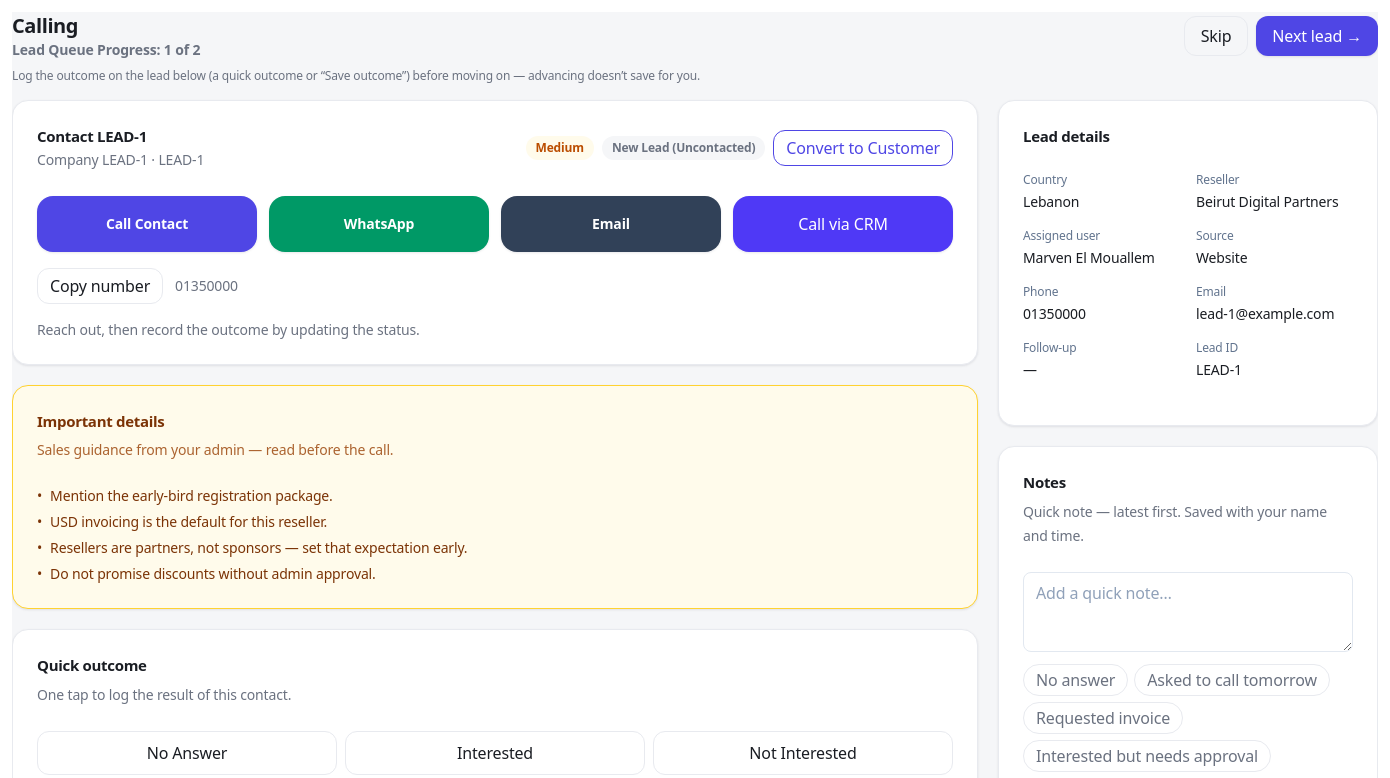
SalesCallingQueue — progress + navigation › the last lead's action button reads 'Finish' instead of 'Next lead →'
What coordinates should you click on to do the following:
click the button "Skip"
I would click on:
 (1216, 36)
Its box is [1184,16,1248,56].
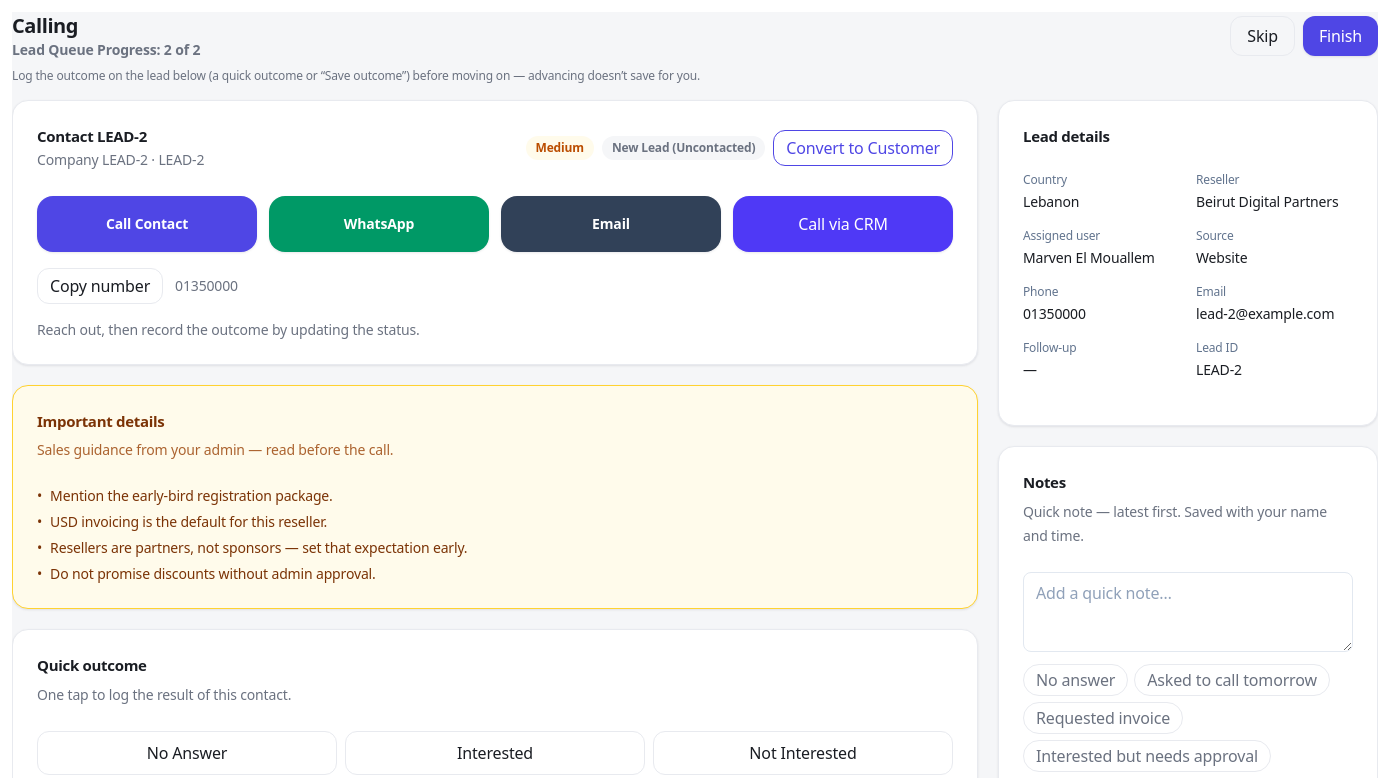
Now the button "Finish" is shown, box [1303,16,1378,56]
